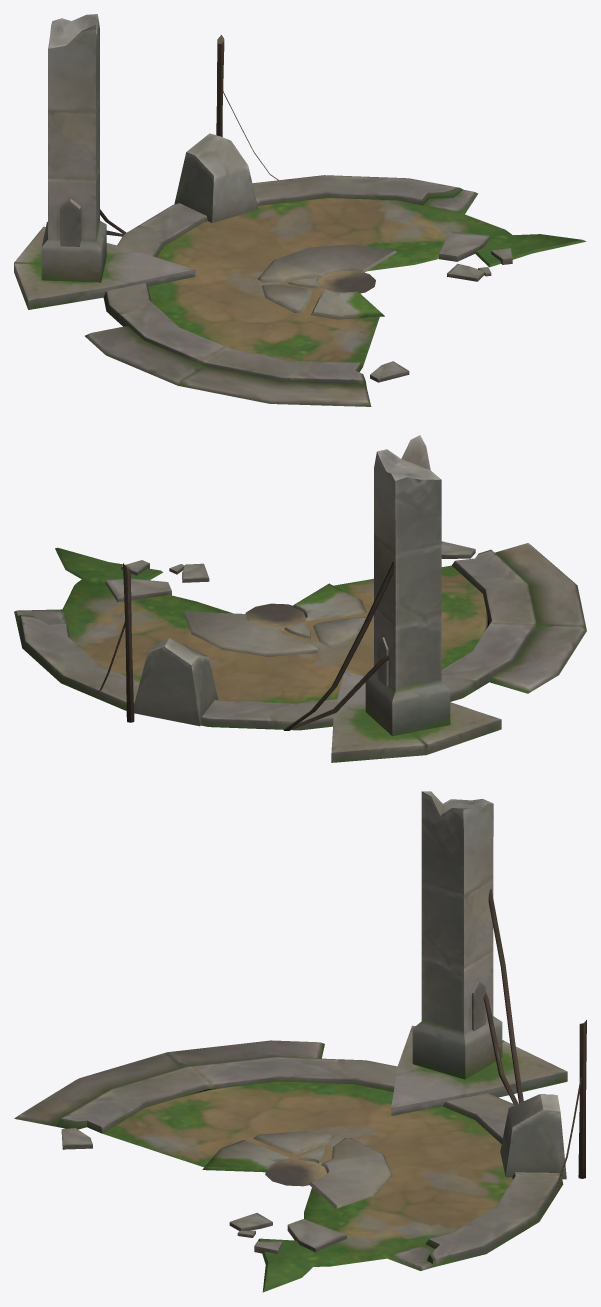
Rendered from jitan_04.FBX.
3 renders of one model, top to bottom at view 1: azimuth 30°, elevation 25°; view 2: azimuth 150°, elevation 25°; view 3: azimuth 270°, elevation 25°, orthographic. The views are drawn at different scales.
Visible parts, largest first — view 1: Altar_02; view 2: Altar_02; view 3: Altar_02.
Part boxes in pixels (x1=…): Altar_02: x1=14, y1=14, x2=586, y2=406; Altar_02: x1=14, y1=435, x2=586, y2=762; Altar_02: x1=14, y1=791, x2=586, y2=1292.
Bounding box in the file's own units: 1042 × 535 × 982.
